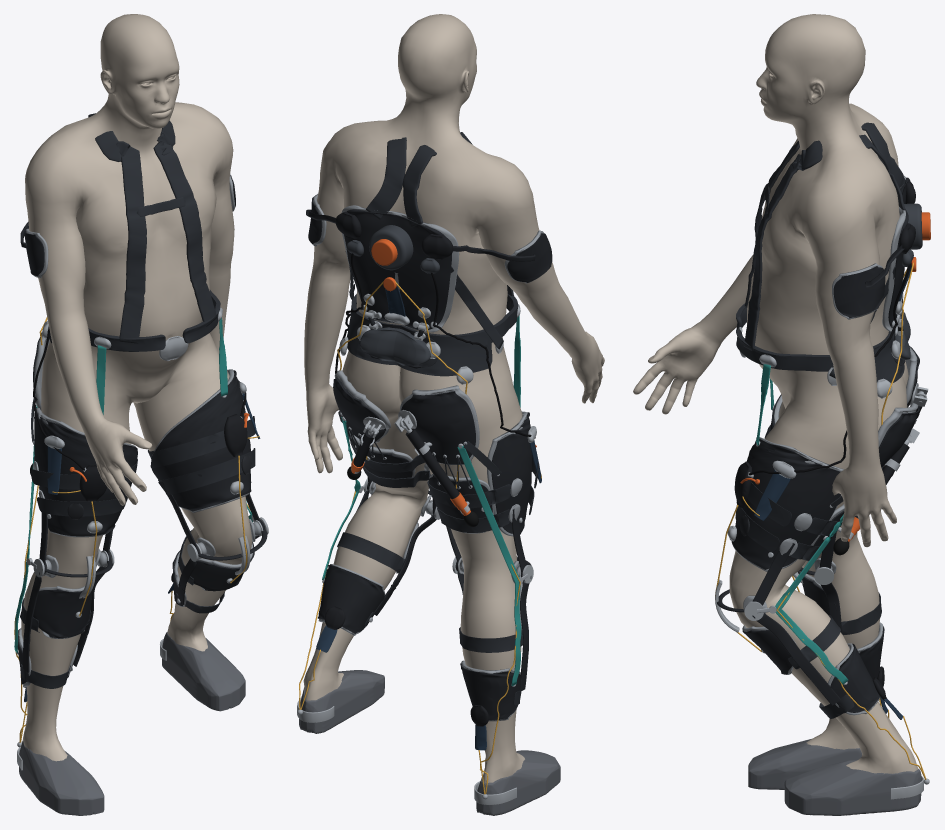
The model's file is sitka_walk.glb.
3 renders of one model, left to right at view 1: azimuth 30°, elevation 25°; view 2: azimuth 150°, elevation 25°; view 3: azimuth 270°, elevation 25°, orthographic. The views are drawn at different scales.
Parts seen in each view (by area): view 1: body_walk, thigh_shell_l, harness_r, thigh_shell_r, shoe_r, shoe_l, harness_l, ptb_shell_r, hip_belt, thigh_strap1_l, thigh_strap0_l, ptb_shell_l (+15 smaller); view 2: body_walk, back_panel, hip_belt, seat_cup_r, shoe_l, shoe_r, calf_cuff_l, thigh_shell_r, calf_cuff_r, p1_battery, hamstring_band_r, harness_l (+21 smaller); view 3: body_walk, thigh_shell_l, shoe_l, shoe_r, harness_l, hip_belt, m5_armcuff_l, calf_cuff_l, harness_r, hamstring_band_l, shin_arm_lat_l, seat_cup_l (+12 smaller).
Boxes of the visible parts, x1,y1,x2,y2 form: body_walk: (21, 14, 252, 761); thigh_shell_l: (151, 370, 251, 511); harness_r: (88, 113, 146, 343); thigh_shell_r: (34, 412, 137, 536); shoe_r: (19, 740, 104, 815); shoe_l: (162, 632, 245, 711); harness_l: (153, 120, 216, 326); ptb_shell_r: (33, 583, 94, 638); hip_belt: (49, 289, 220, 351); thigh_strap1_l: (158, 448, 255, 494); thigh_strap0_l: (148, 416, 255, 468); ptb_shell_l: (188, 542, 254, 591); body_walk: (303, 14, 604, 783); back_panel: (344, 209, 451, 329); hip_belt: (347, 294, 518, 376); seat_cup_r: (401, 391, 475, 464); shoe_l: (299, 670, 384, 733); shoe_r: (476, 750, 560, 815); calf_cuff_l: (317, 565, 384, 633); thigh_shell_r: (491, 412, 532, 534); calf_cuff_r: (460, 663, 521, 720); p1_battery: (360, 327, 430, 365); hamstring_band_r: (457, 445, 521, 686); harness_l: (366, 137, 406, 219); body_walk: (633, 14, 918, 773); thigh_shell_l: (731, 438, 840, 569); shoe_l: (784, 760, 921, 815); shoe_r: (748, 739, 861, 789); harness_l: (744, 134, 905, 351); hip_belt: (736, 303, 904, 382); m5_armcuff_l: (833, 266, 885, 317); calf_cuff_l: (830, 643, 879, 712); harness_r: (744, 122, 906, 307); hamstring_band_l: (775, 514, 848, 684); shin_arm_lat_l: (752, 613, 840, 705); seat_cup_l: (878, 408, 919, 467).
Bounding box in the file's own units: 0.5708 × 1.89 × 0.6354.
